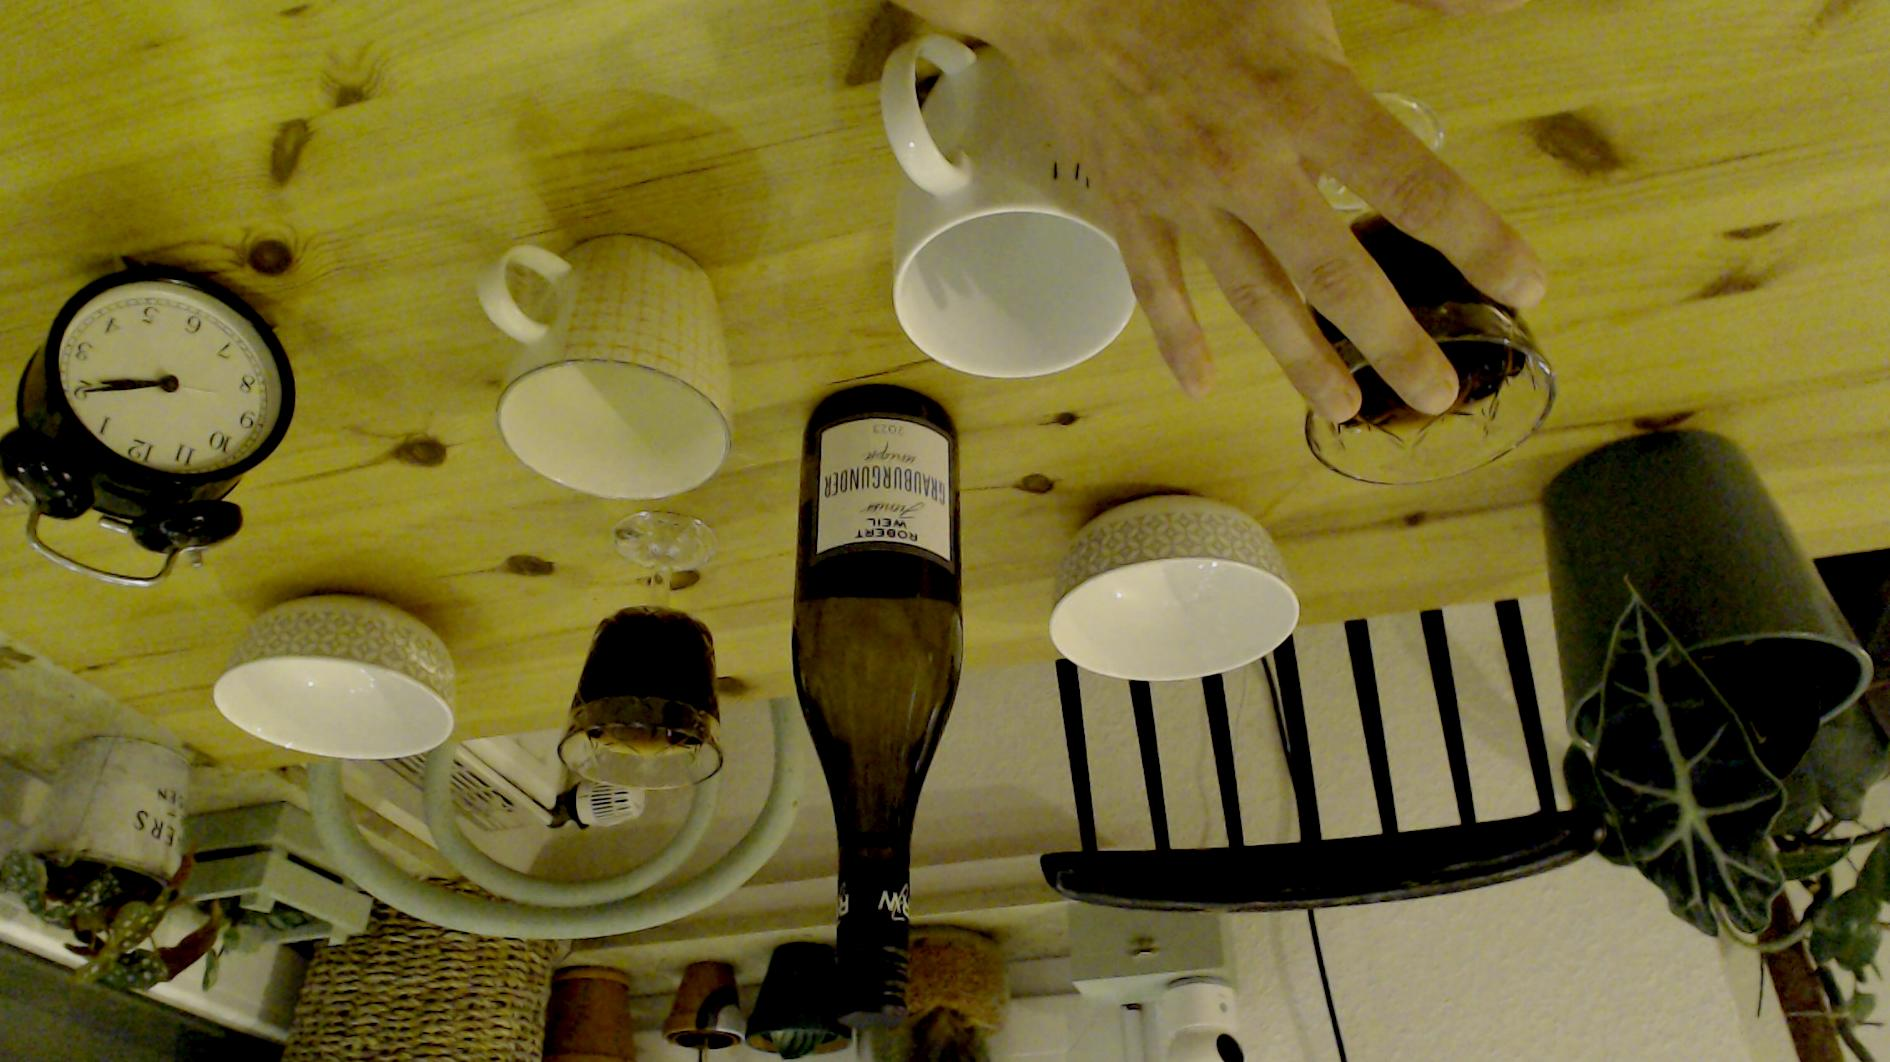bottle: (791, 386, 964, 1026)
bowl_close: (1046, 492, 1299, 684)
bowl_far: (212, 592, 457, 761)
clock: (52, 273, 292, 480)
cup_close: (879, 32, 1137, 380)
cup_far: (476, 232, 735, 501)
hand_close: (977, 9, 1547, 430)
potted_plant: (1538, 426, 1873, 937)
wineglass_close: (1303, 90, 1552, 489)
wineglass_far: (557, 509, 724, 792)
